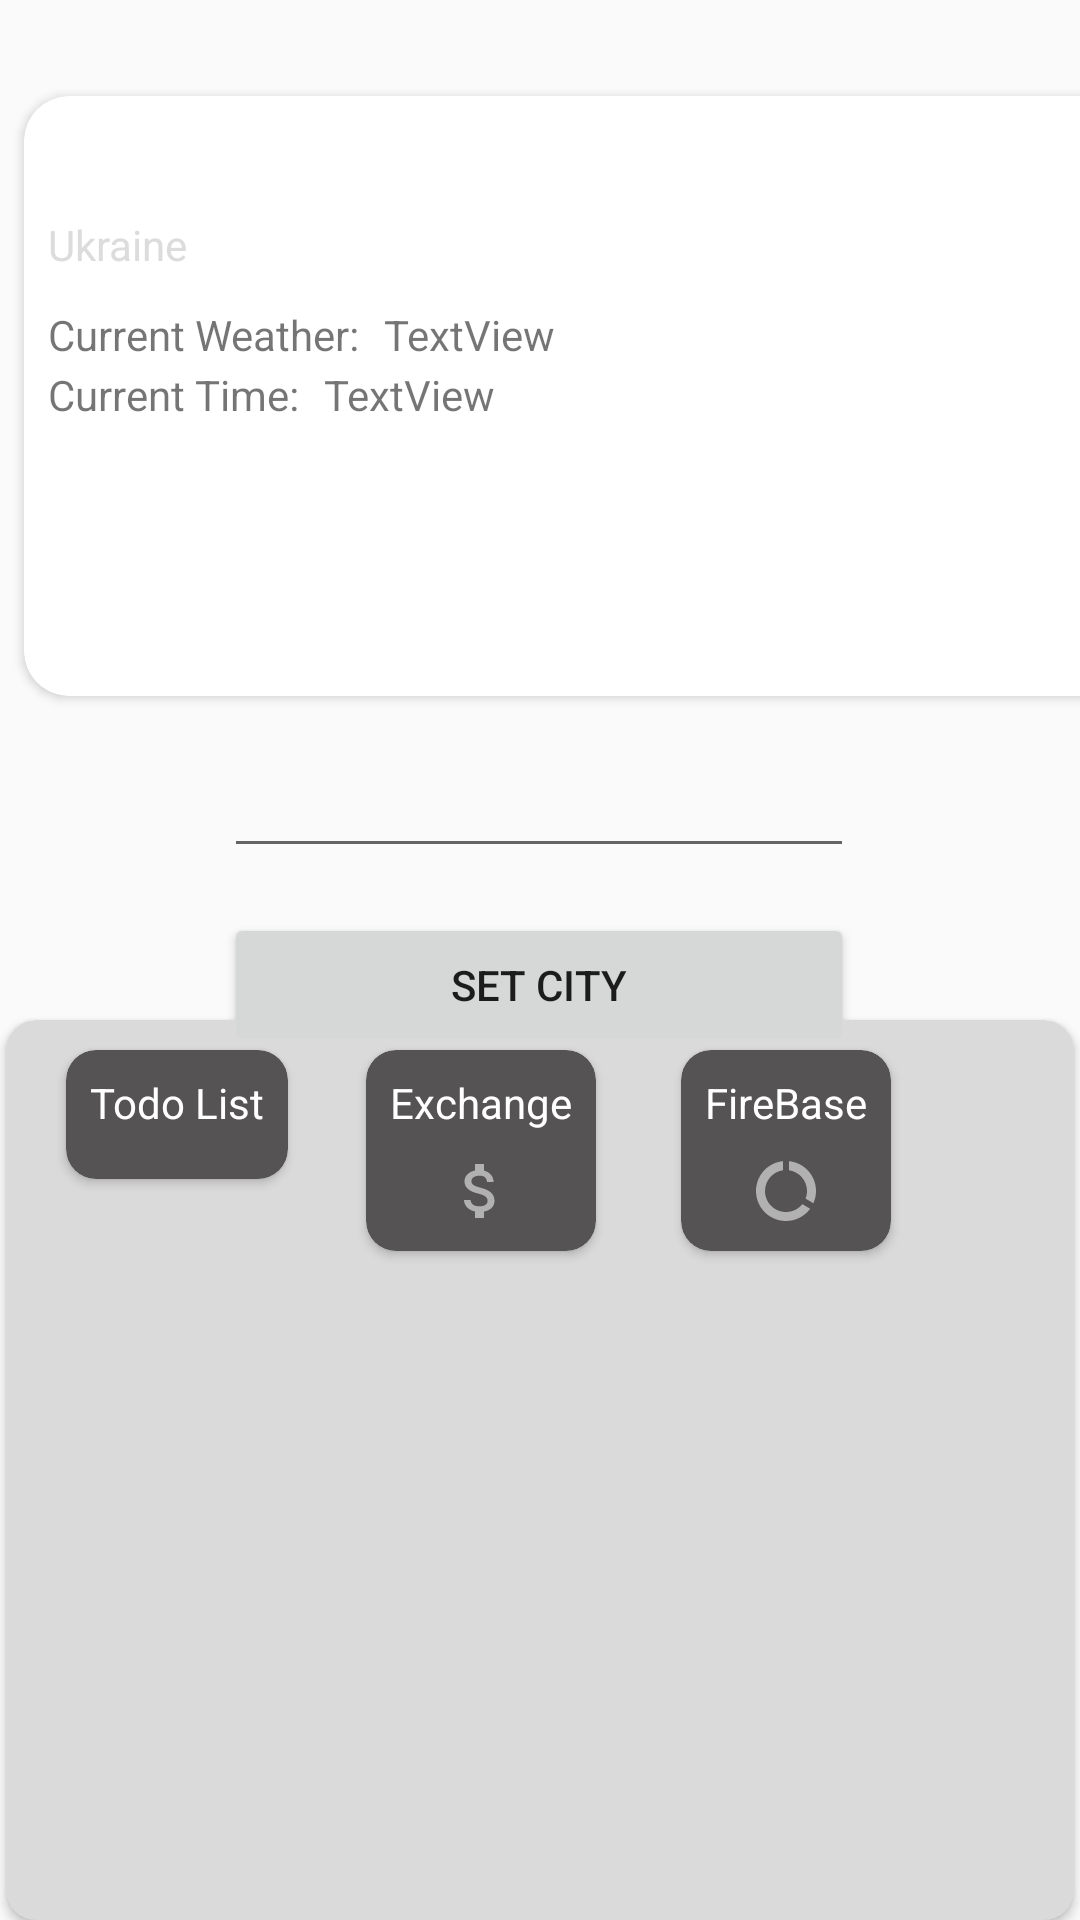

Point at icon controls on the screen. Image size 1080*1920, points as (x=x, y=y).
attach money: (x=479, y=1191)
data usage: (x=786, y=1191)
